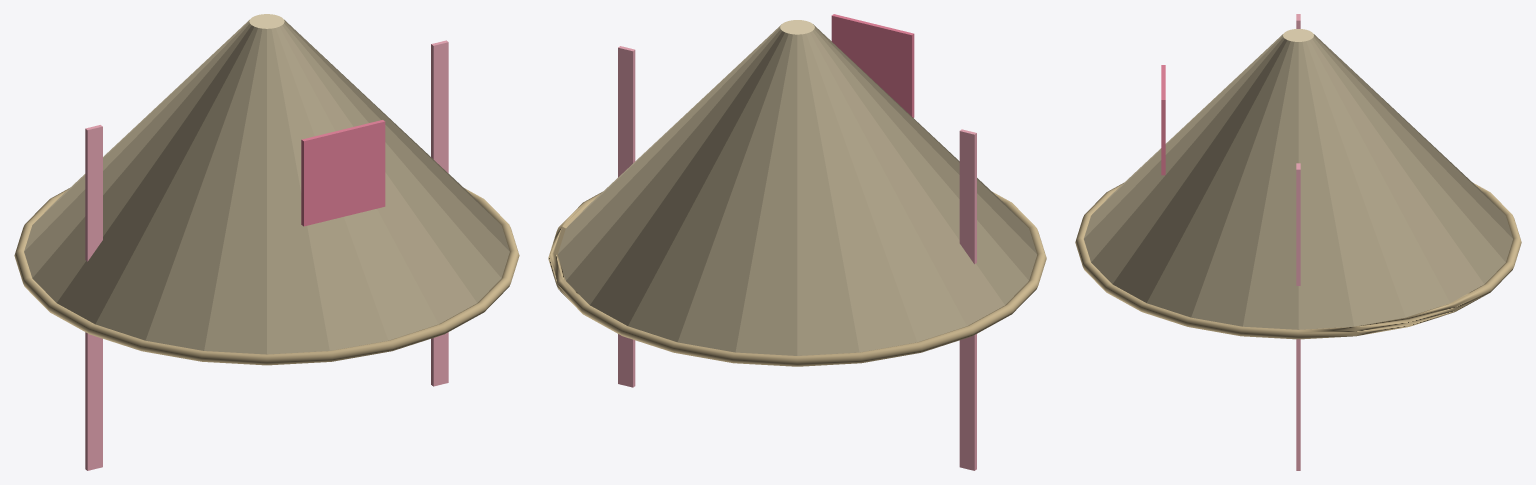
File: non_la_theu_sen.obj
3 views of the same model, side by side, from view 1: azimuth 30°, elevation 25°; view 2: azimuth 150°, elevation 25°; view 3: azimuth 270°, elevation 25° (orthographic). The views are drawn at different scales.
Size of the model in its own units: 0.43 by 0.38 by 0.43.
